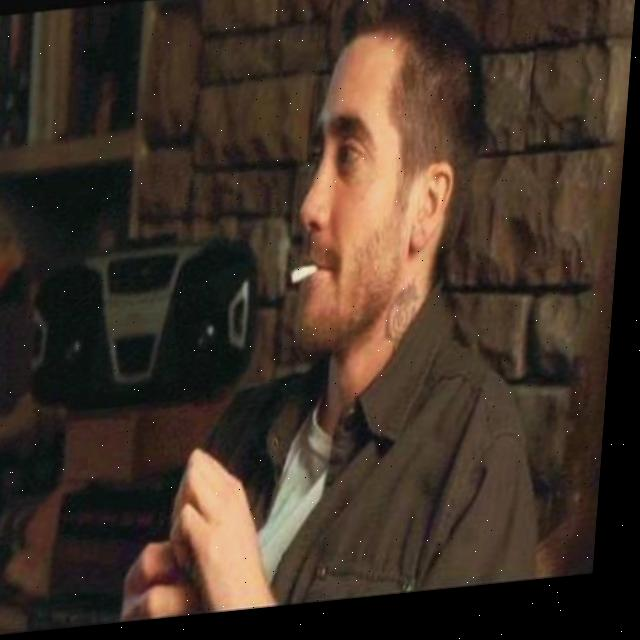cigarette: (293, 268, 327, 294)
